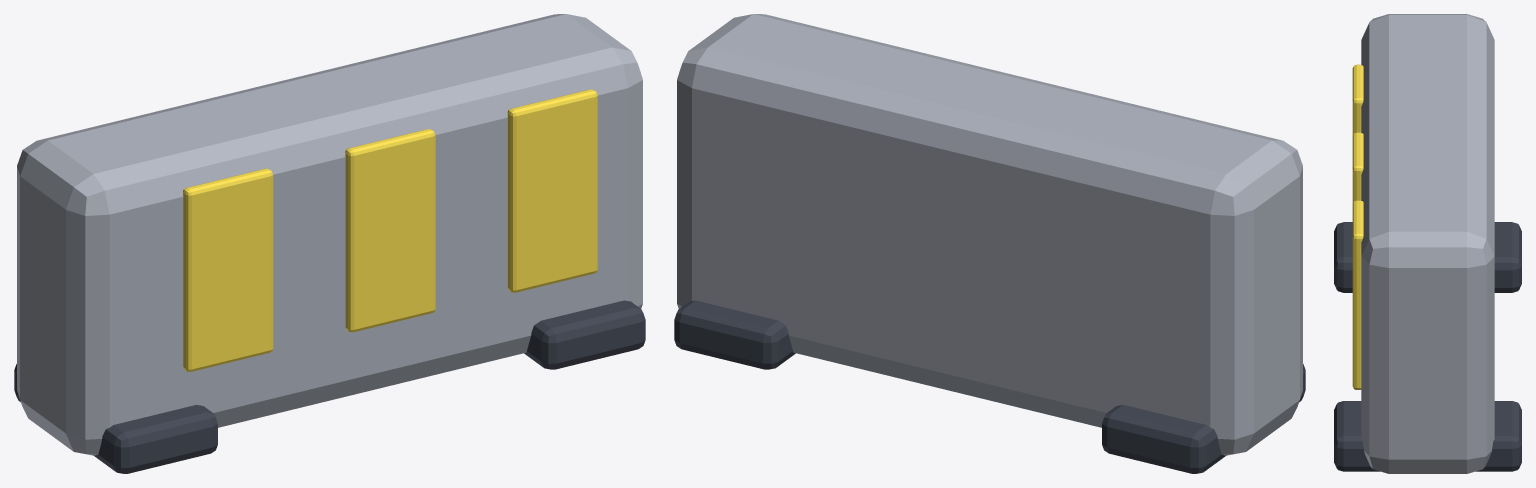
File: barrier.glb
3 renders of one model, left to right at view 1: azimuth 30°, elevation 25°; view 2: azimuth 150°, elevation 25°; view 3: azimuth 270°, elevation 25°, orthographic. The views are drawn at different scales.
Visible parts, largest first — view 1: barrier_core, stripe_b, stripe_c, stripe_a, foot_-1.08, foot_1.08; view 2: barrier_core, foot_-1.08, foot_1.08; view 3: barrier_core, foot_1.08, foot_-1.08, stripe_c, stripe_a, stripe_b.
Part boxes in pixels (left/top/right/bottom): barrier_core: left=17, top=14, right=642, bottom=455; stripe_b: left=345, top=129, right=435, bottom=332; stripe_c: left=507, top=89, right=597, bottom=292; stripe_a: left=183, top=168, right=273, bottom=371; foot_-1.08: left=14, top=364, right=217, bottom=473; foot_1.08: left=524, top=300, right=645, bottom=369; barrier_core: left=677, top=14, right=1302, bottom=455; foot_-1.08: left=1102, top=364, right=1305, bottom=473; foot_1.08: left=674, top=300, right=795, bottom=369; barrier_core: left=1361, top=14, right=1494, bottom=473; foot_1.08: left=1334, top=401, right=1521, bottom=471; foot_-1.08: left=1334, top=222, right=1521, bottom=292; stripe_c: left=1352, top=200, right=1363, bottom=389; stripe_a: left=1352, top=64, right=1363, bottom=135; stripe_b: left=1352, top=132, right=1363, bottom=203.
Bounding box in the file's own units: 2.9 × 1.36 × 0.96.
